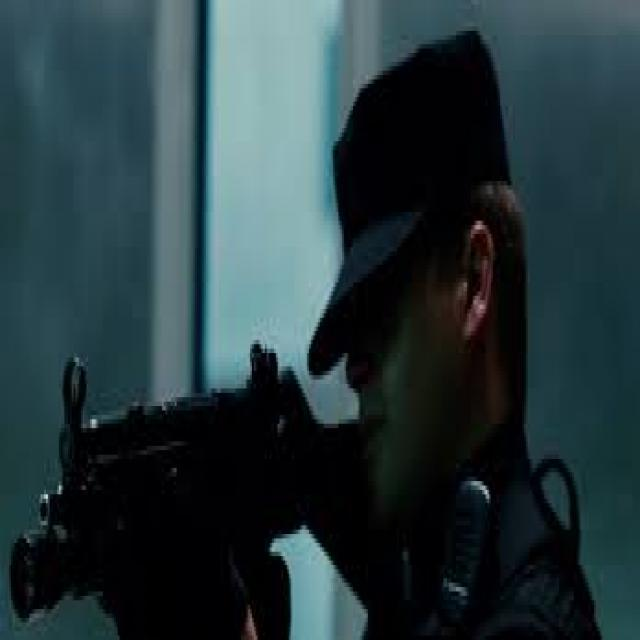weapon: (10, 335, 368, 640)
